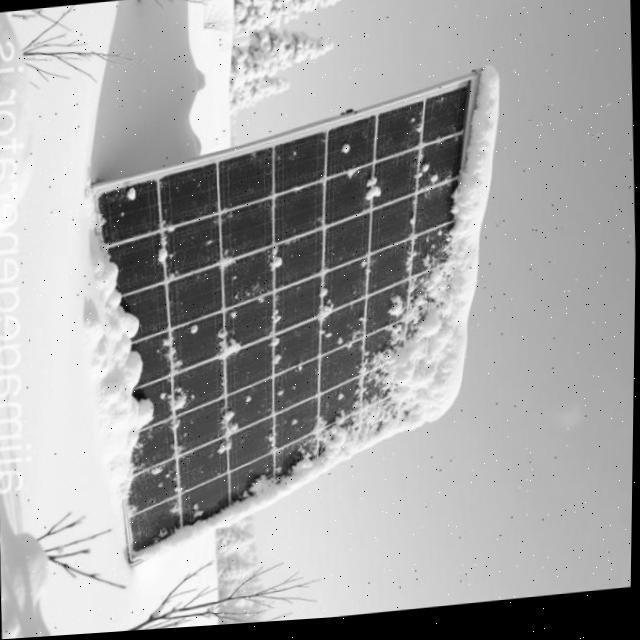Anomaly Solar Panel: (53, 77, 581, 569)
Snow: (126, 67, 631, 628), (85, 232, 168, 501), (212, 327, 244, 371), (316, 289, 341, 331), (219, 410, 241, 457), (160, 389, 188, 416), (360, 180, 383, 209)
